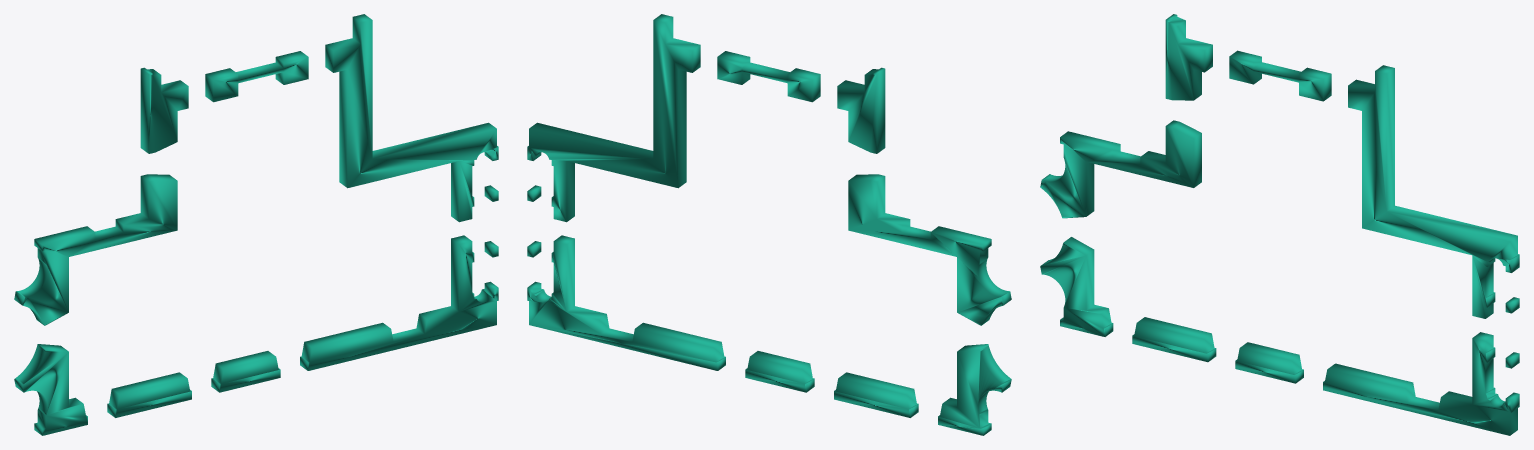
Rendered from 3D_ArmeriaReale_AR.obj.
3 views of the same model, side by side, from view 1: azimuth 30°, elevation 25°; view 2: azimuth 150°, elevation 25°; view 3: azimuth 330°, elevation 25° (orthographic).
Parts seen in each view (by area): view 1: Line008; view 2: Line008; view 3: Line008.
Boxes of the visible parts, x1,y1,x2,y2 form: Line008: (14,14,498,435); Line008: (527,14,1011,435); Line008: (1040,14,1519,435).
Bounding box in the file's own units: 3421 × 2302 × 102.
